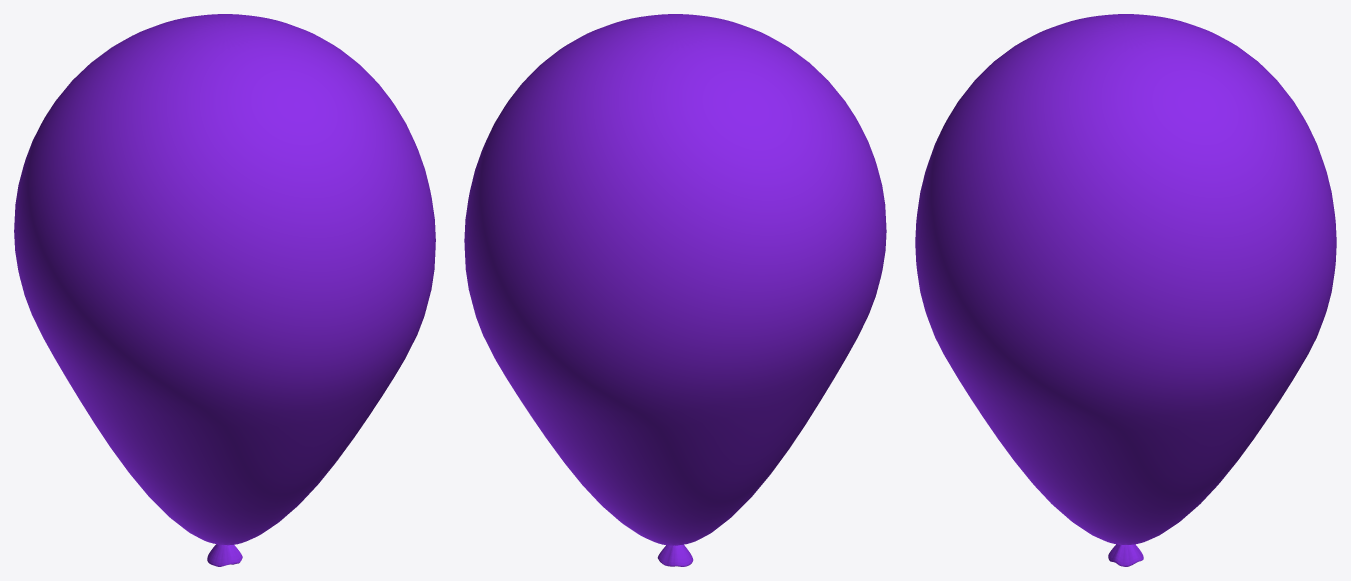
The model's file is BalloonOhneSchnur_lila.fbx.
3 views of the same model, side by side, from view 1: azimuth 30°, elevation 25°; view 2: azimuth 150°, elevation 25°; view 3: azimuth 270°, elevation 25° (orthographic).
Visible parts, largest first — view 1: Sphere, Cone; view 2: Sphere, Cone; view 3: Sphere, Cone.
Boxes of the visible parts, left/top/right/bottom form: Sphere: left=14, top=14, right=435, bottom=545; Cone: left=207, top=544, right=242, bottom=566; Sphere: left=464, top=14, right=886, bottom=545; Cone: left=657, top=544, right=693, bottom=566; Sphere: left=915, top=14, right=1336, bottom=544; Cone: left=1108, top=544, right=1143, bottom=566.
Bounding box in the file's own units: 197 × 272 × 197.
